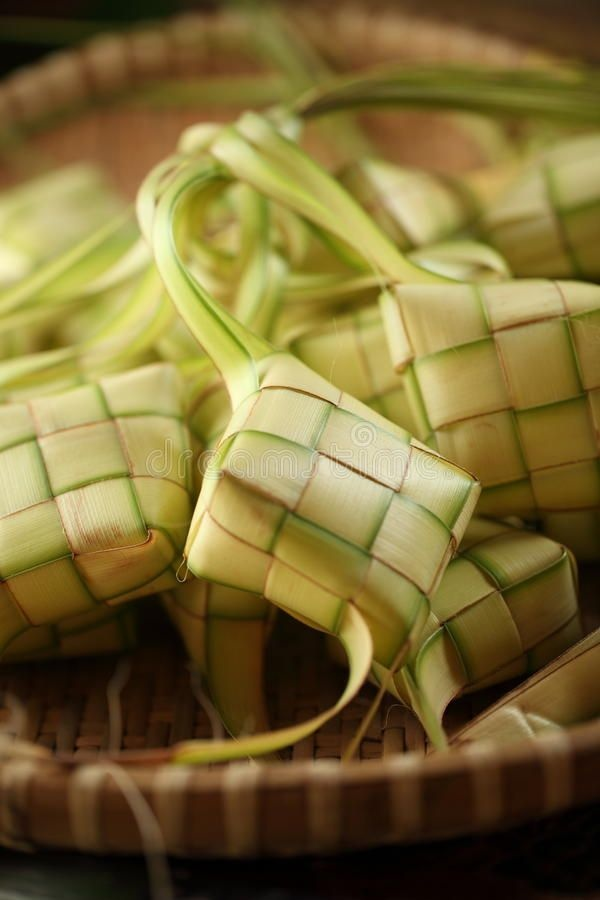ketupat: (181, 352, 479, 677), (375, 274, 600, 518), (1, 362, 194, 626)
